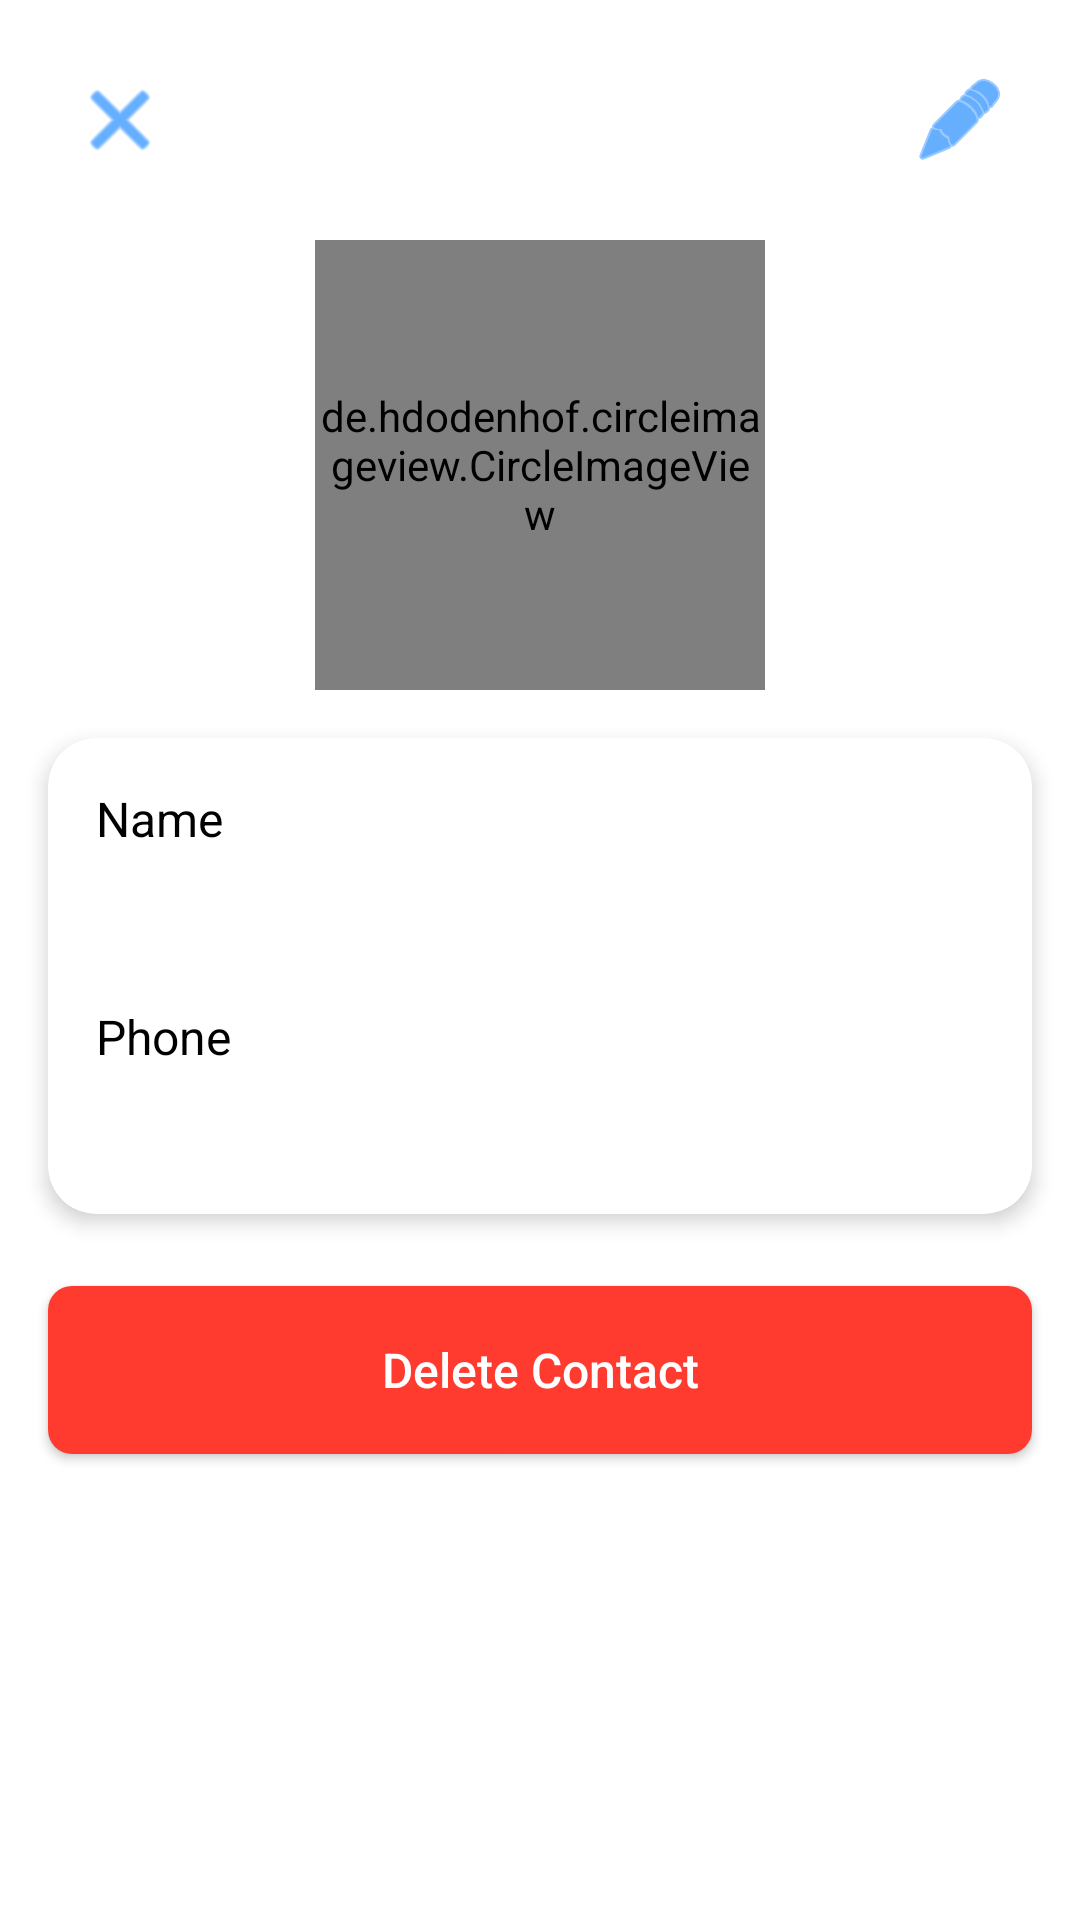

Where to tap for icons on this 1080px×1920px app screen, as (x=x, y=y):
Back: (x=120, y=120)
Edit Contact: (x=959, y=119)
